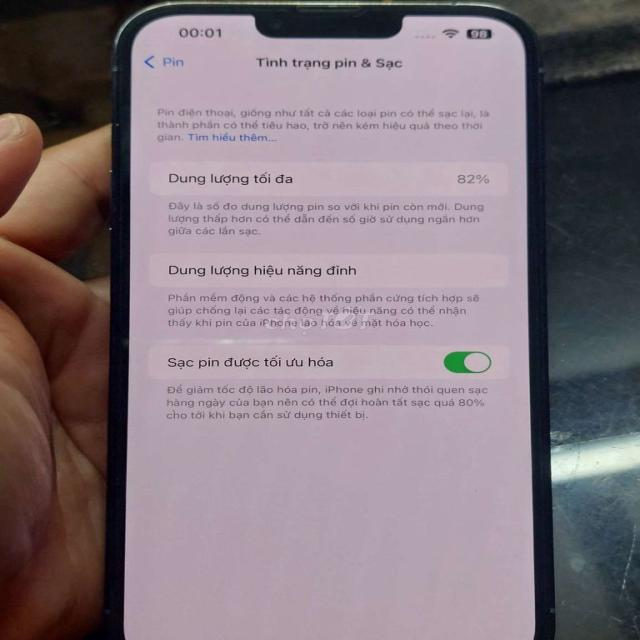gen_12_13: (96, 1, 574, 640)
